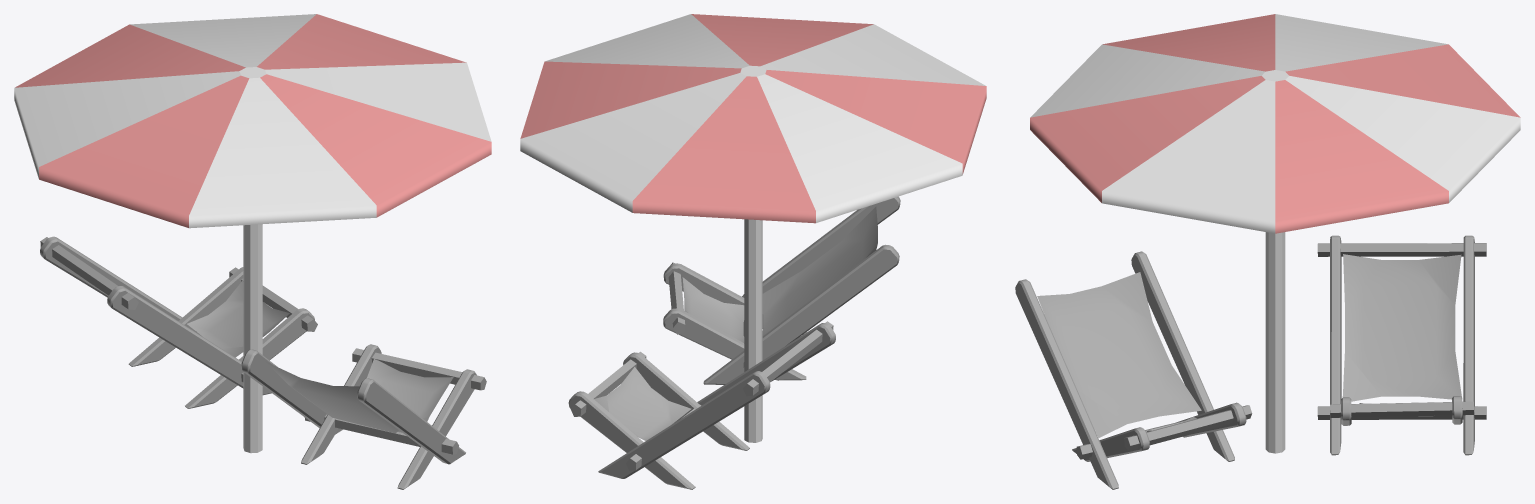
File: parasol_and_chairs.fbx
The picture shows the model from 3 angles, left to right: view 1: azimuth 30°, elevation 25°; view 2: azimuth 150°, elevation 25°; view 3: azimuth 270°, elevation 25°; orthographic projection. The views are drawn at different scales.
Parts seen in each view (by area): view 1: pCylinder9, pCube11, pCube15, pPlane3, pPlane2, pPlane4, pCube13, pCube14, pCube17, pCube12, pCube10, pCube16 (+4 smaller); view 2: pCylinder9, pCube14, pPlane3, pCube10, pPlane2, pCube12, pCube15, pCube13, pCube16, pPlane4, pCube11, pCube17 (+3 smaller); view 3: pCylinder9, pPlane1, pPlane3, pCube15, pCube14, pCube10, pCube11, pCylinder11, pCylinder12, pCylinder14, pCube17, pCylinder10 (+1 smaller).
Part boxes in pixels (x1,y1,x2,y2): pCylinder9: (14, 14, 491, 453); pCube11: (107, 286, 271, 395); pCube15: (357, 378, 465, 464); pPlane3: (265, 361, 401, 433); pPlane2: (187, 281, 289, 357); pPlane4: (367, 359, 453, 421); pCube13: (185, 308, 314, 408); pCube14: (241, 349, 342, 434); pCube17: (397, 369, 476, 489); pCube12: (128, 267, 243, 366); pCube10: (40, 236, 201, 335); pCube16: (301, 344, 381, 464); pCylinder9: (520, 14, 986, 442); pCube14: (703, 244, 899, 384); pPlane3: (762, 206, 877, 335); pCube10: (598, 371, 770, 478); pPlane2: (594, 367, 691, 440); pCube12: (568, 391, 695, 489); pCube15: (743, 196, 900, 297); pCube13: (623, 352, 749, 450); pCube16: (663, 308, 806, 380); pPlane4: (682, 277, 744, 342); pCube11: (673, 323, 835, 423); pCube17: (663, 263, 806, 334); pCylinder9: (1030, 14, 1520, 453); pPlane1: (1342, 254, 1461, 401); pPlane3: (1037, 272, 1201, 437); pCube15: (1015, 279, 1118, 489); pCube14: (1131, 251, 1234, 461); pCube10: (1463, 235, 1474, 455); pCube11: (1330, 235, 1341, 455); pCylinder11: (1317, 243, 1486, 256); pCylinder12: (1330, 401, 1474, 417); pCylinder14: (1124, 405, 1252, 450); pCube17: (1072, 427, 1149, 461); pCylinder10: (1317, 406, 1486, 419).
Bounding box in the file's own units: 54.93 × 46.17 × 56.59.
